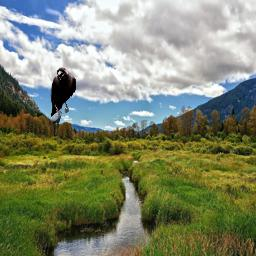Crow: (50, 67, 76, 123)
